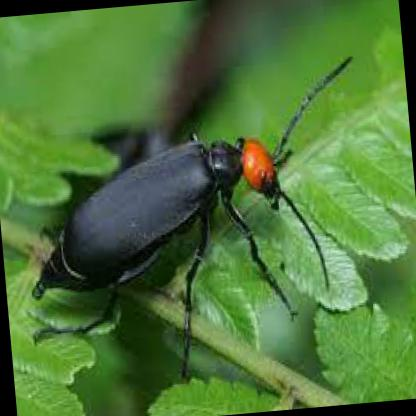blister beetle: (33, 58, 346, 296)
